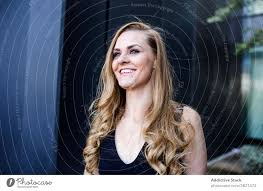white_female: (101, 34, 172, 99)
